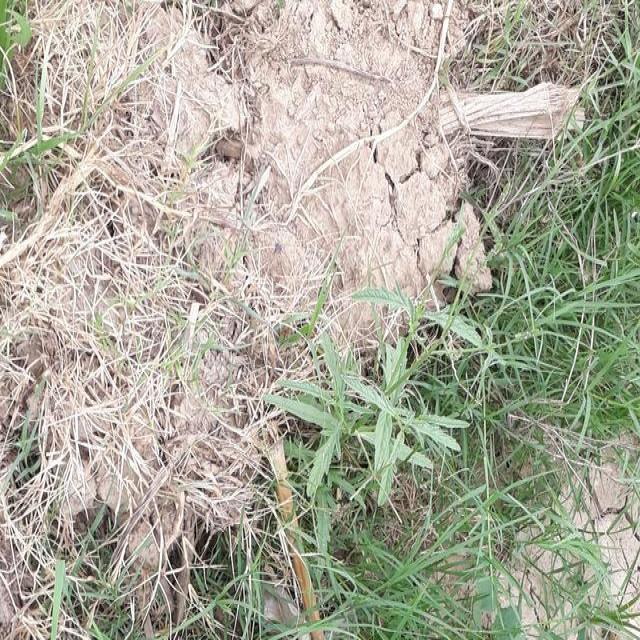weed: (0, 363, 456, 640), (468, 64, 626, 640)
